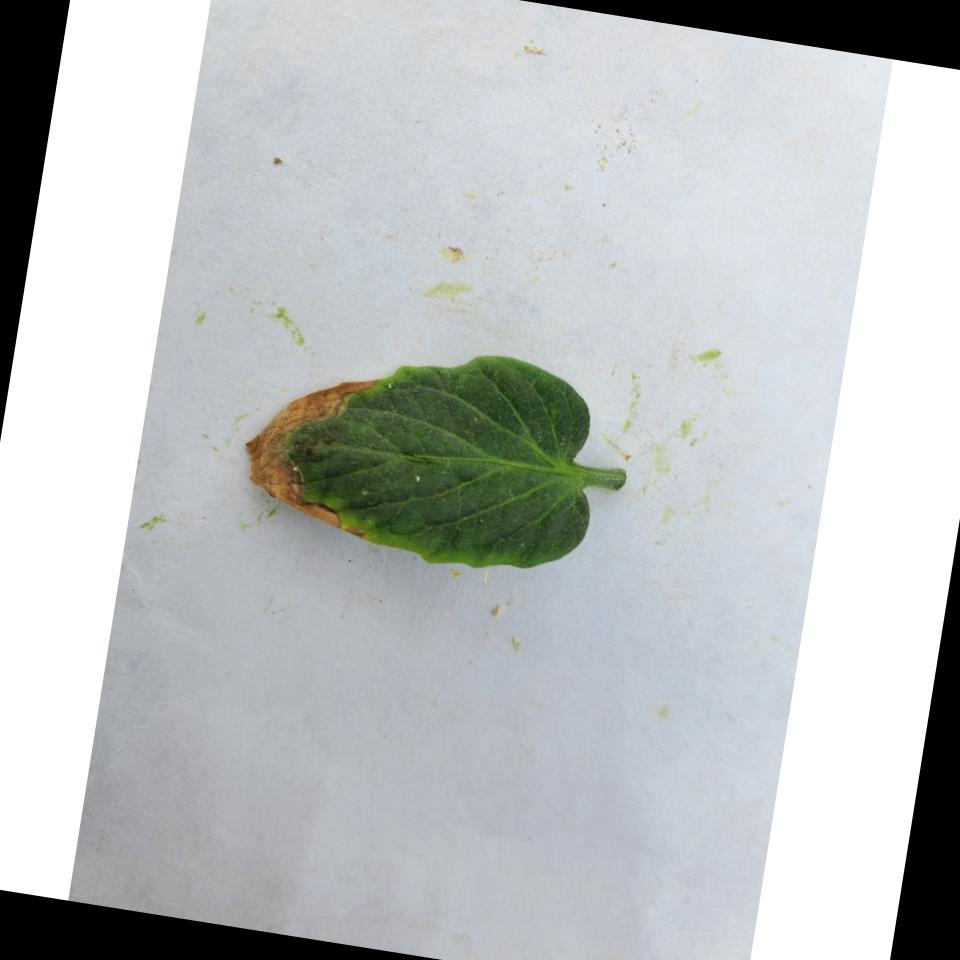tomato_bacterial_blight: (226, 324, 642, 590)
